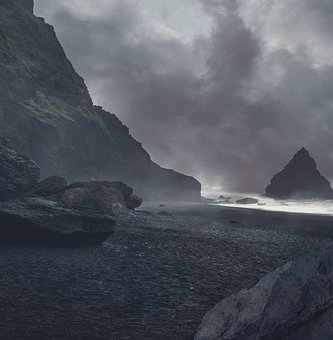mountain: (8, 1, 191, 206)
sky: (93, 2, 331, 151)
